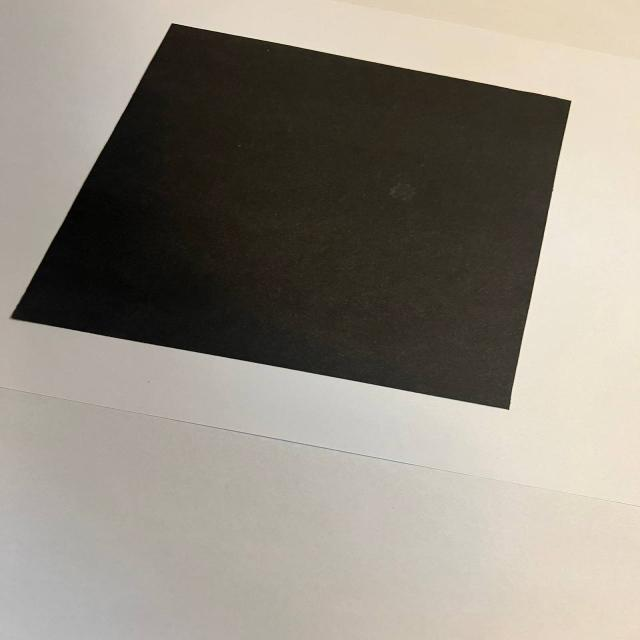Box: (13, 25, 570, 409)
